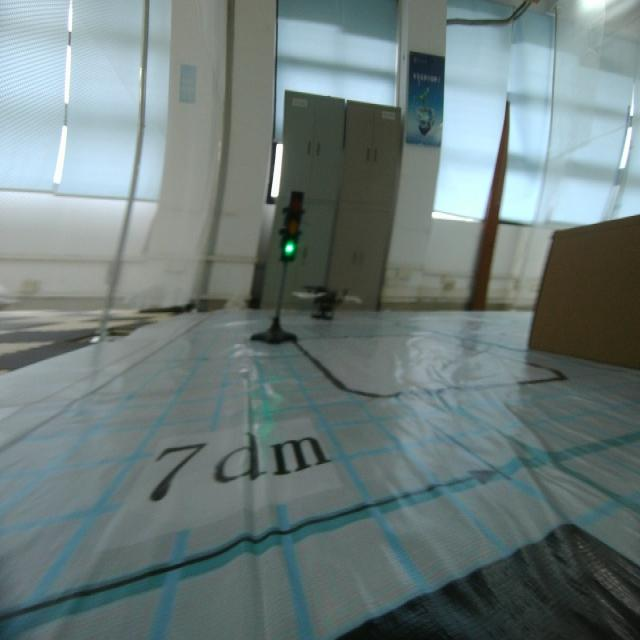green: (281, 187, 307, 266)
